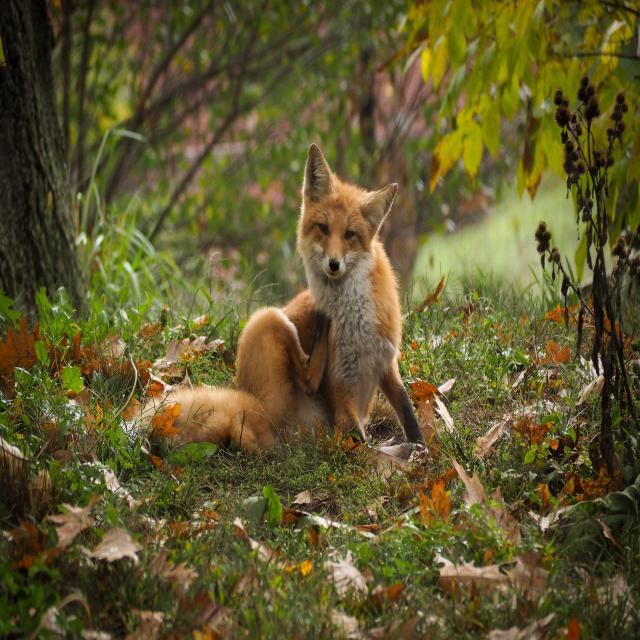Fox: (136, 143, 423, 456)
